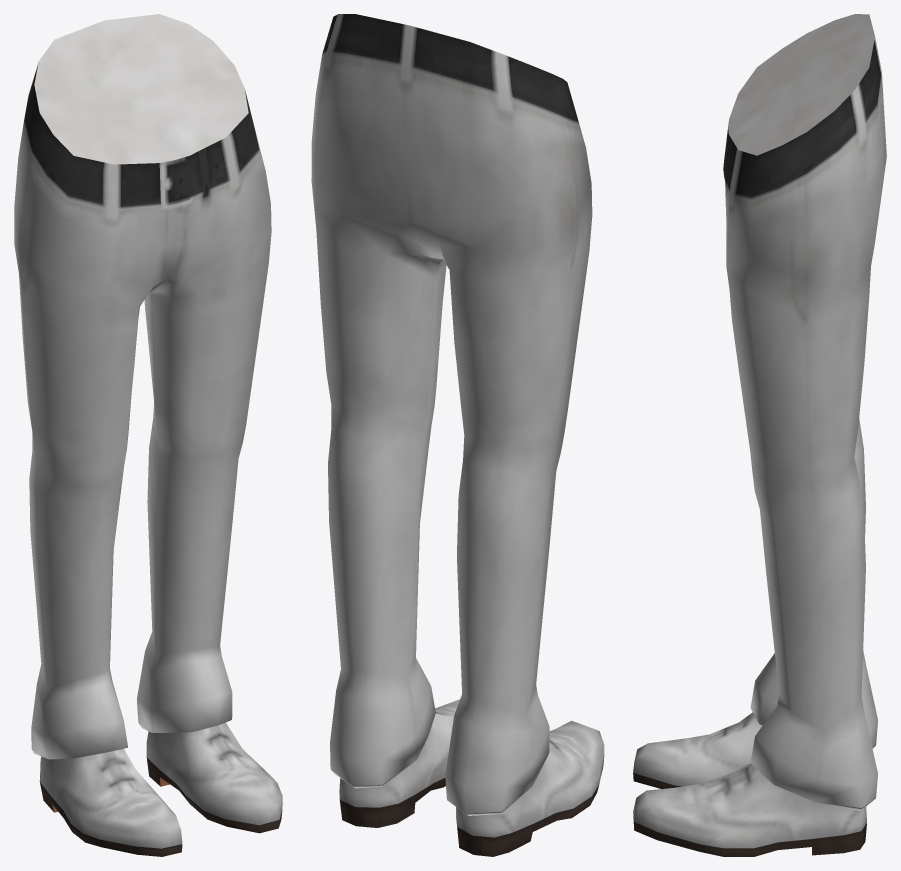
File: tr0800_00_lwb02.gltf
3 views of the same model, side by side, from view 1: azimuth 30°, elevation 25°; view 2: azimuth 150°, elevation 25°; view 3: azimuth 270°, elevation 25° (orthographic). The views are drawn at different scales.
Visible parts, largest first — view 1: lwb02_lowerbody_mesh_shape:lowerbody02, lwb02_shoes_mesh_shape:lowerbody02; view 2: lwb02_lowerbody_mesh_shape:lowerbody02, lwb02_shoes_mesh_shape:lowerbody02; view 3: lwb02_lowerbody_mesh_shape:lowerbody02, lwb02_shoes_mesh_shape:lowerbody02.
Boxes of the visible parts, box(x1,y1,x2,y2) form: lwb02_lowerbody_mesh_shape:lowerbody02: box(14, 14, 271, 759); lwb02_shoes_mesh_shape:lowerbody02: box(39, 722, 282, 856); lwb02_lowerbody_mesh_shape:lowerbody02: box(311, 14, 592, 815); lwb02_shoes_mesh_shape:lowerbody02: box(339, 699, 604, 856); lwb02_lowerbody_mesh_shape:lowerbody02: box(723, 14, 886, 810); lwb02_shoes_mesh_shape:lowerbody02: box(633, 712, 866, 856).
Size of what is drawn, in the model's own units: 0.3183 by 0.9764 by 0.2886.
Materials: 1 (1 with a texture image).
